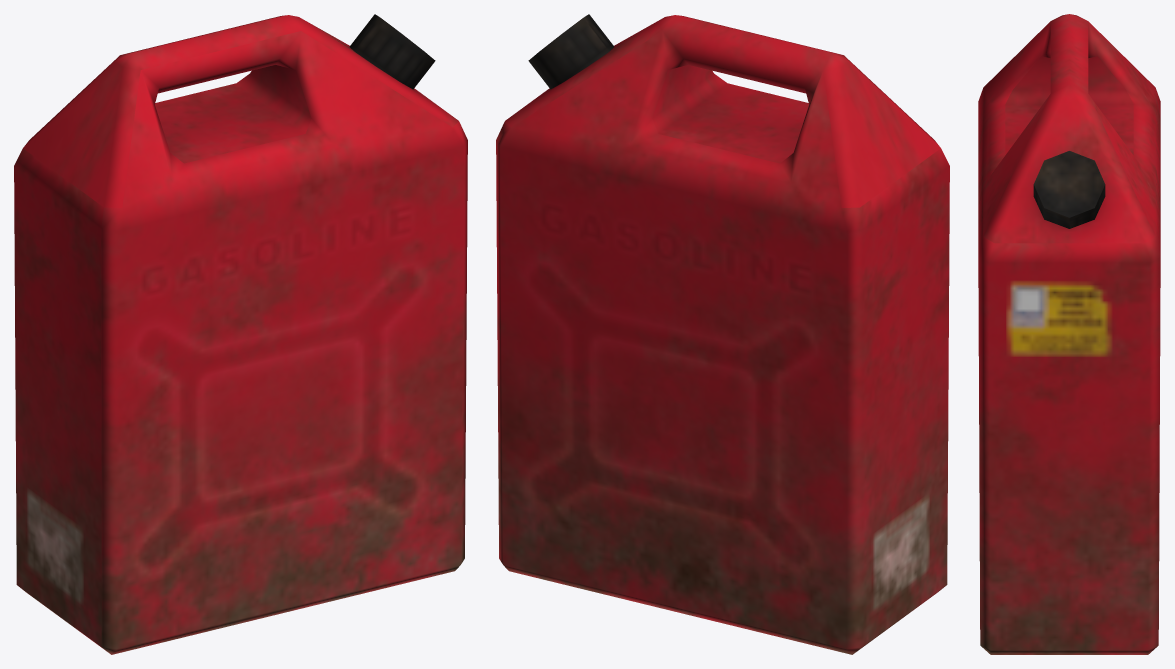
File: Can1.fbx
3 views of the same model, side by side, from view 1: azimuth 30°, elevation 25°; view 2: azimuth 150°, elevation 25°; view 3: azimuth 270°, elevation 25° (orthographic). The views are drawn at different scales.
Visible parts, largest first — view 1: polySurface60; view 2: polySurface60; view 3: polySurface60.
Boxes of the visible parts, <box> form: polySurface60: <box>14,14,467,654</box>; polySurface60: <box>496,14,949,654</box>; polySurface60: <box>978,14,1160,654</box>.
Size of the model in its own units: 0.6855 by 0.9796 by 0.3146.
Materials: 1 (1 with a texture image).
